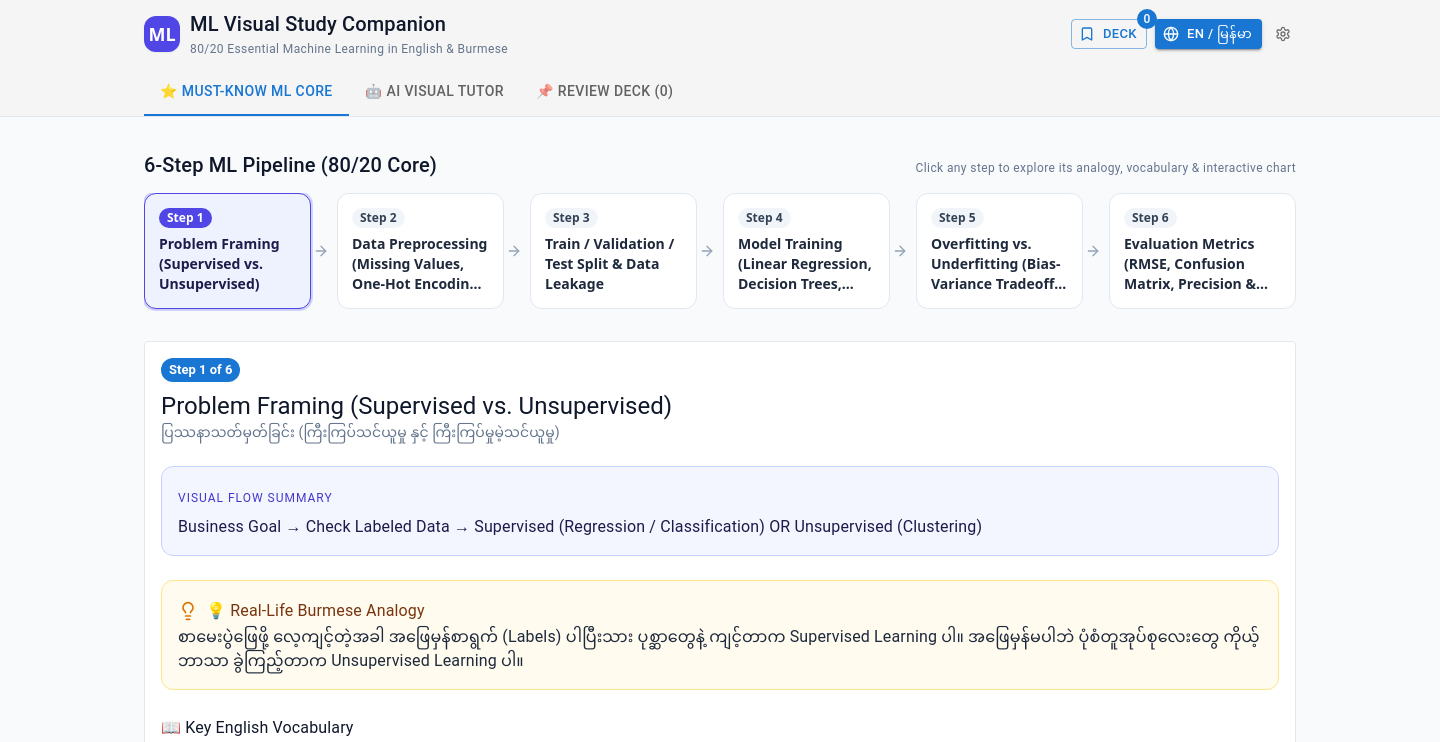
Test case: CoreFlowchart and Phase 2 Study UI › toggles UI labels and flowchart step titles between EN and မြန်မာ
expect the button with test id "flowchart-step-1" shows "Problem Framing (Supervised vs. Unsupervised)": met, box [144,193,311,309]
Click the button with aria-label "Toggle language EN / မြန်မာ" at (1208, 34), box [1155,19,1262,49]
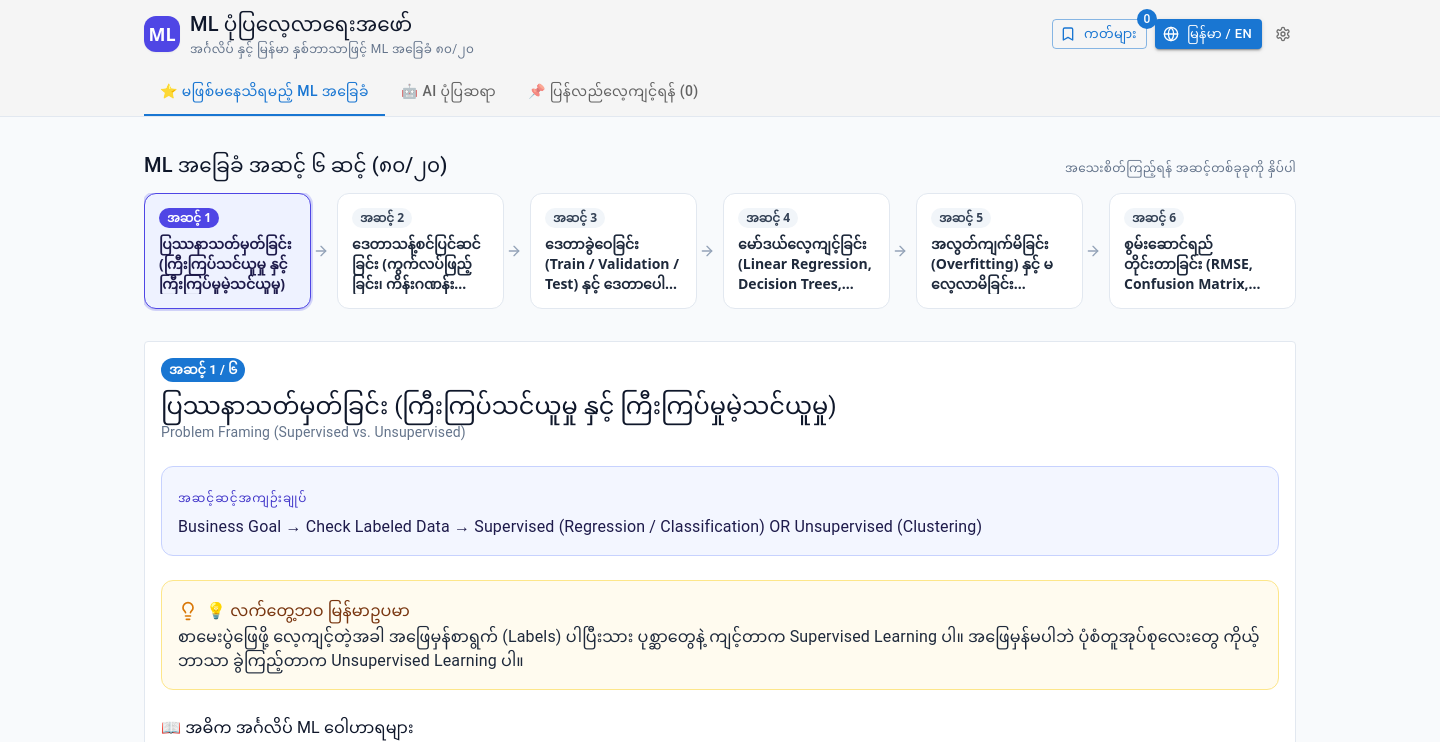
expect the tab "⭐ မဖြစ်မနေသိရမည့် ML အခြေခံ" is shown: met, box [144,68,385,116]
